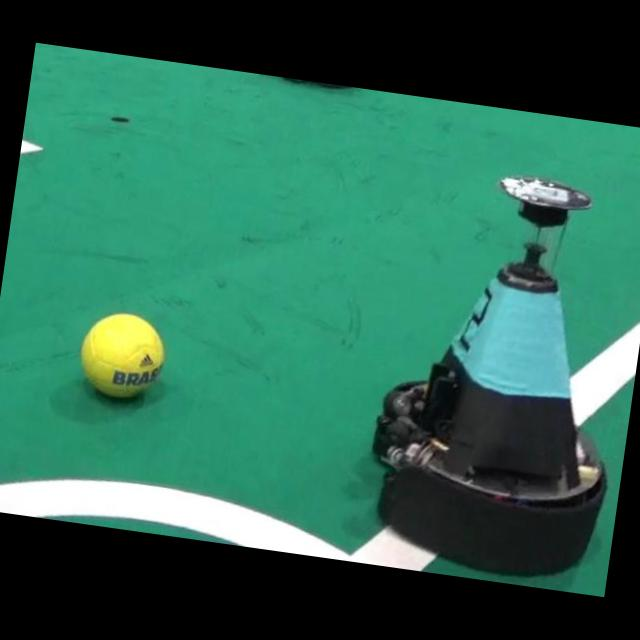ball: (80, 313, 164, 397)
robot: (374, 177, 607, 575)
